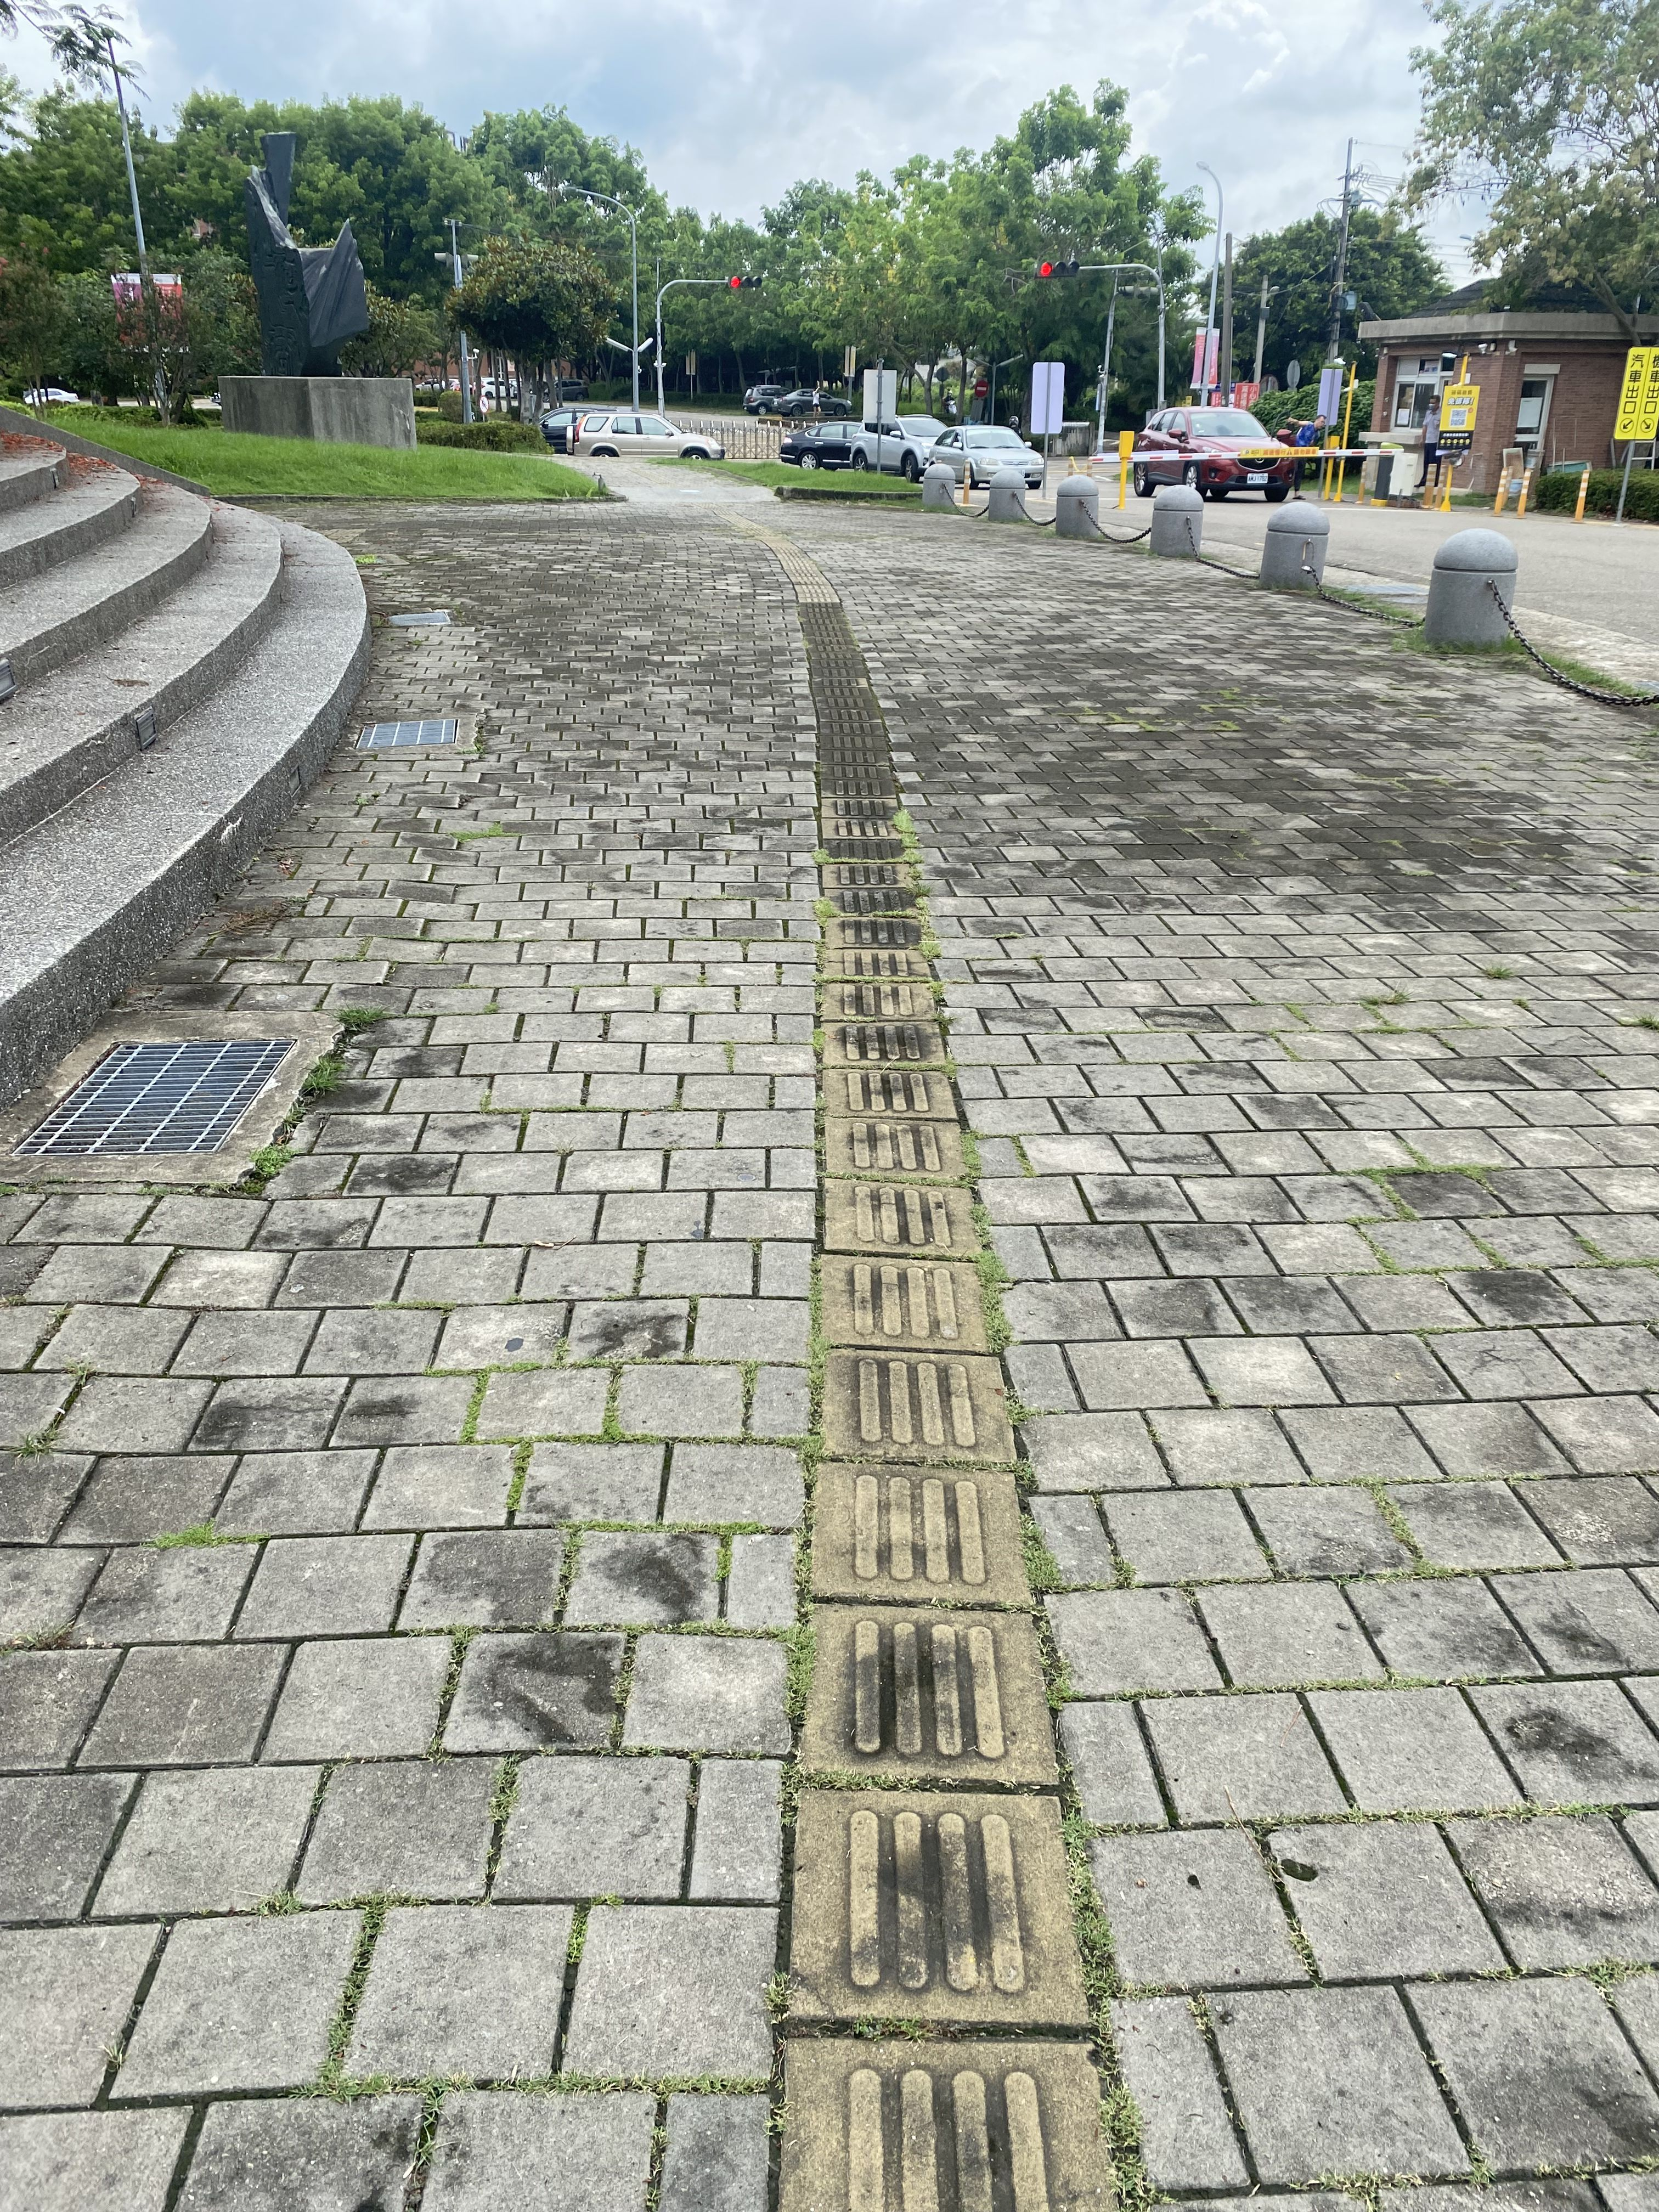sidewalk: (3, 469, 1659, 2212)
